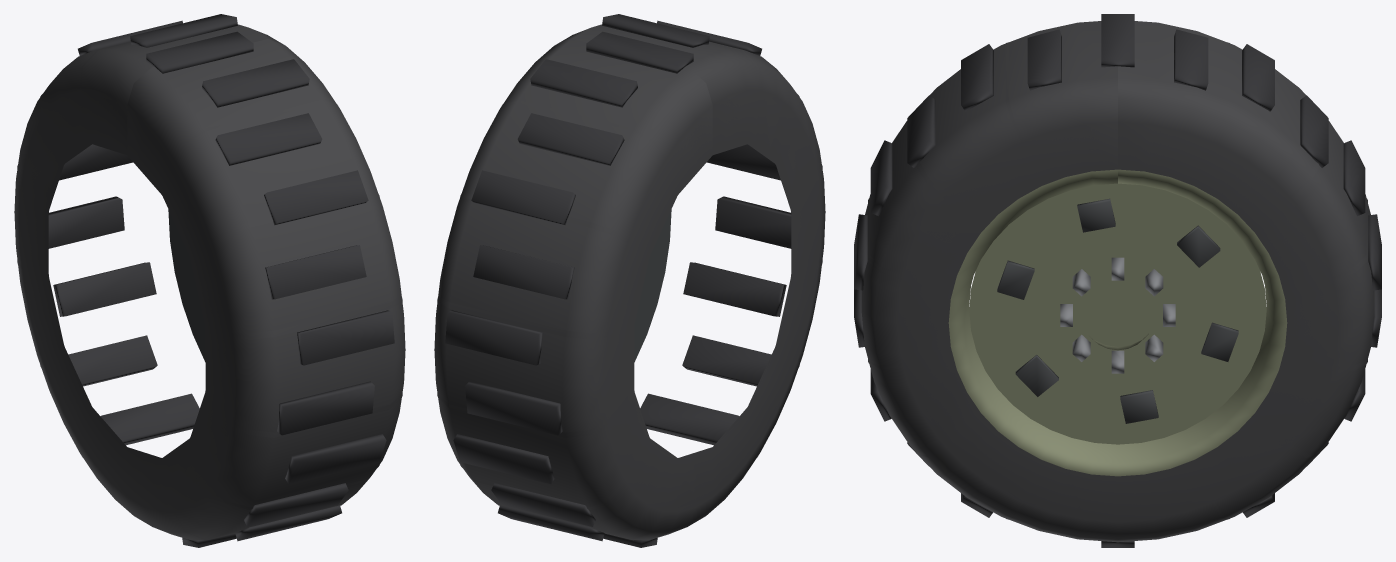
File: roda_militar.glb
3 views of the same model, side by side, from view 1: azimuth 30°, elevation 25°; view 2: azimuth 150°, elevation 25°; view 3: azimuth 270°, elevation 25° (orthographic). The views are drawn at different scales.
Visible parts, largest first — view 1: perto, longe; view 2: perto, longe; view 3: perto, longe.
Part boxes in pixels (x1=…): perto: x1=14, y1=14, x2=405, y2=547; longe: x1=17, y1=42, x2=402, y2=540; perto: x1=434, y1=14, x2=825, y2=547; longe: x1=437, y1=42, x2=822, y2=540; perto: x1=854, y1=14, x2=1381, y2=547; longe: x1=868, y1=42, x2=1367, y2=521.
Size of the model in its own units: 0.7676 by 2.06 by 2.06.
